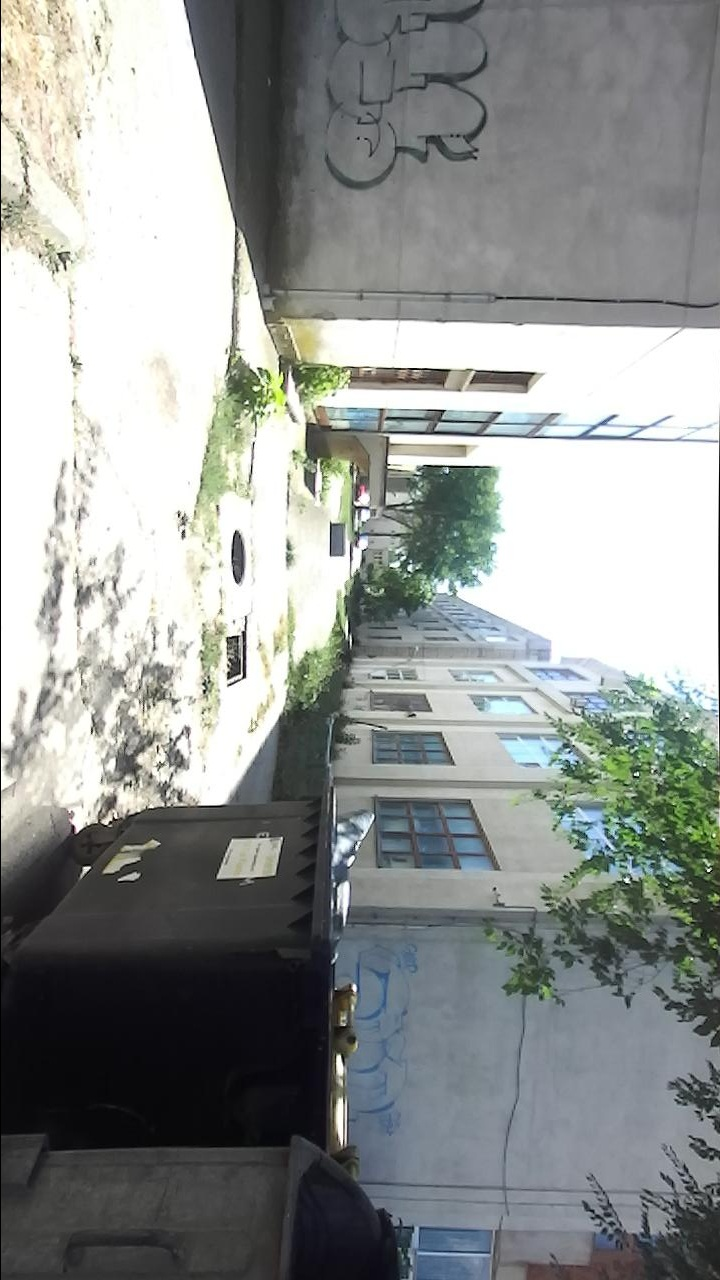drain: (220, 630, 250, 691), (224, 527, 249, 592)
